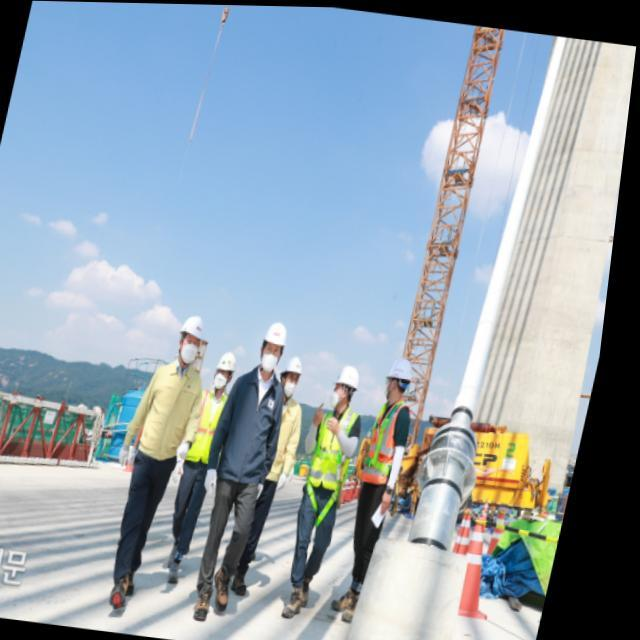belt: (305, 402, 366, 533), (368, 392, 416, 482)
